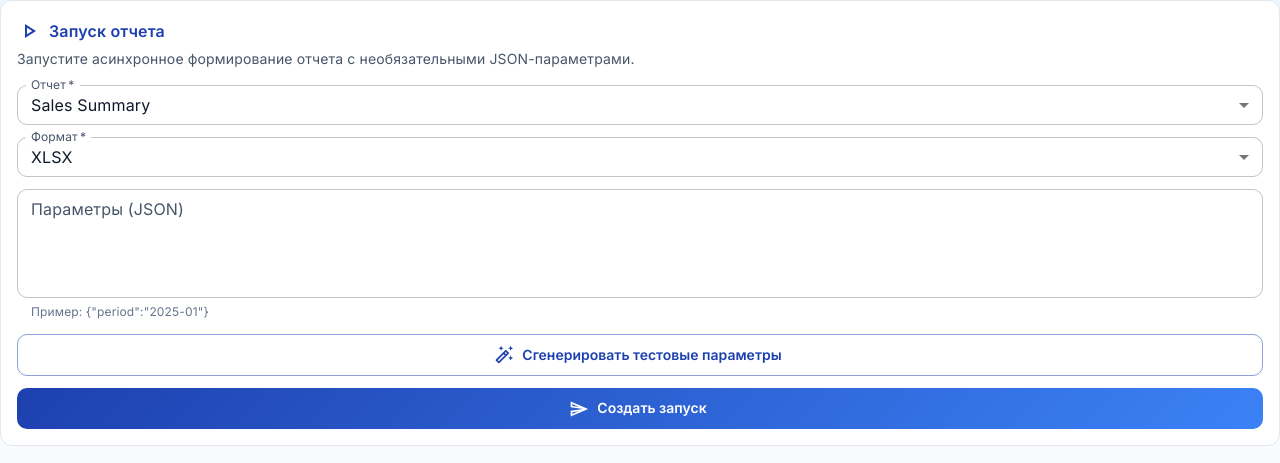
Test: CreateRunForm › syncs the format when the selected report changes
Click the dropdown labelled "Sales Summary": click(91, 104) [31,94,150,114]
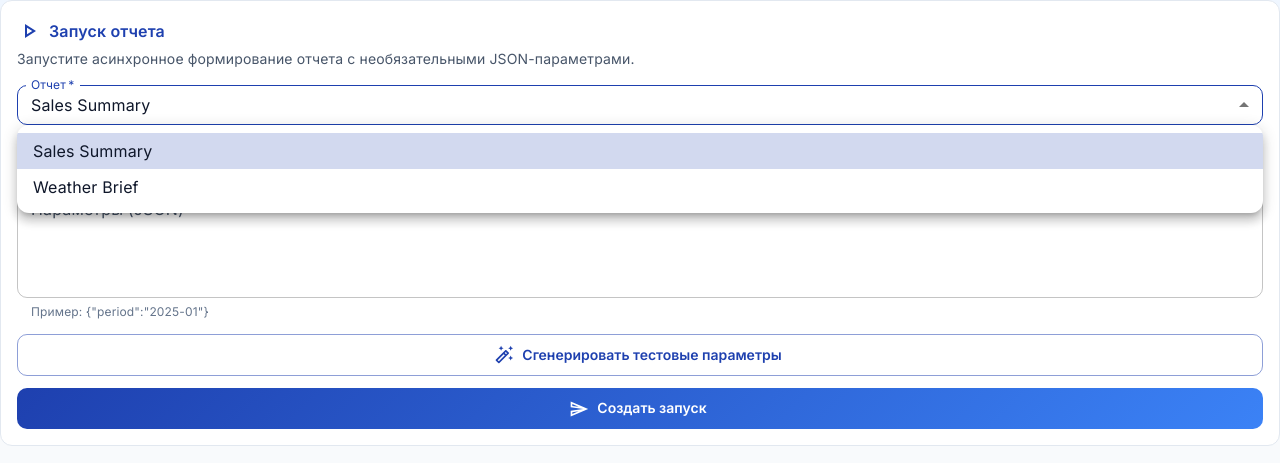
Click the option "Weather Brief": click(86, 187) [33,177,139,197]
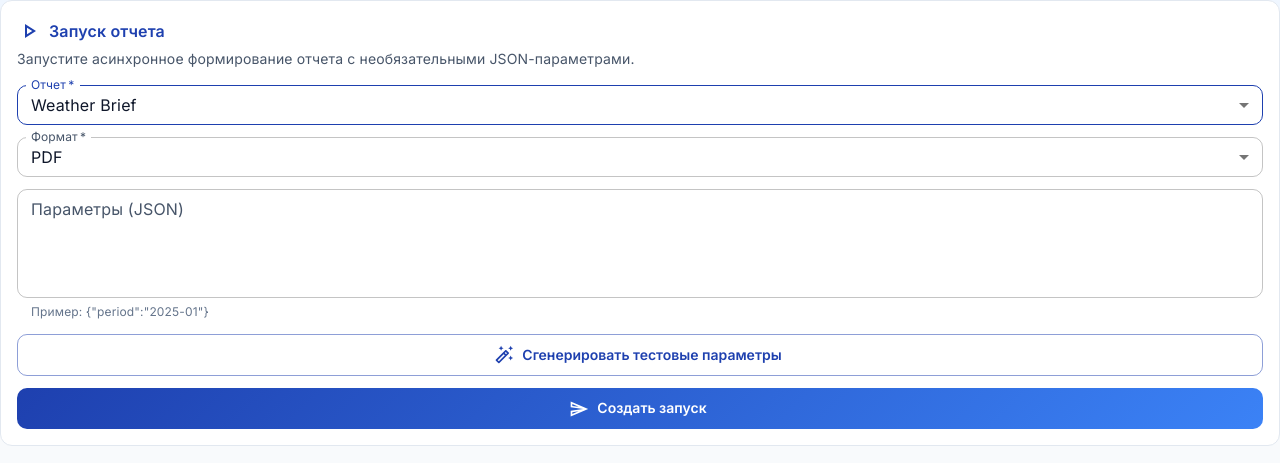
expect the dropdown labelled "PDF" is shown: met, box [31,146,63,166]
